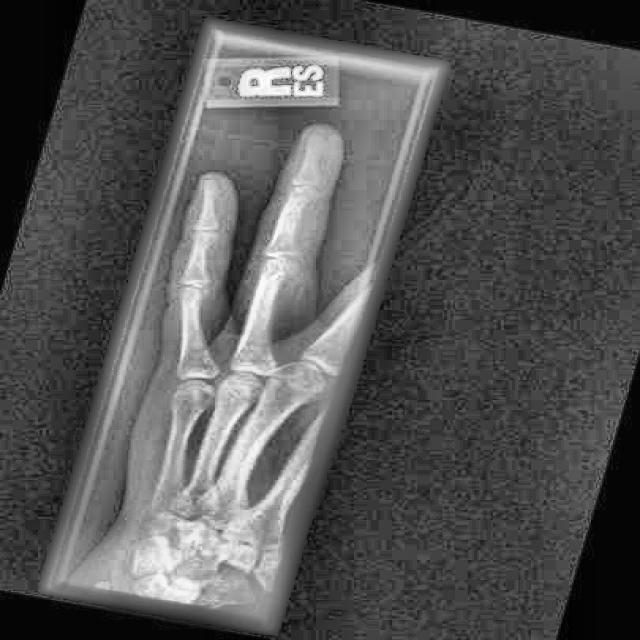fingers positive: (264, 242, 307, 286), (270, 177, 318, 216)
